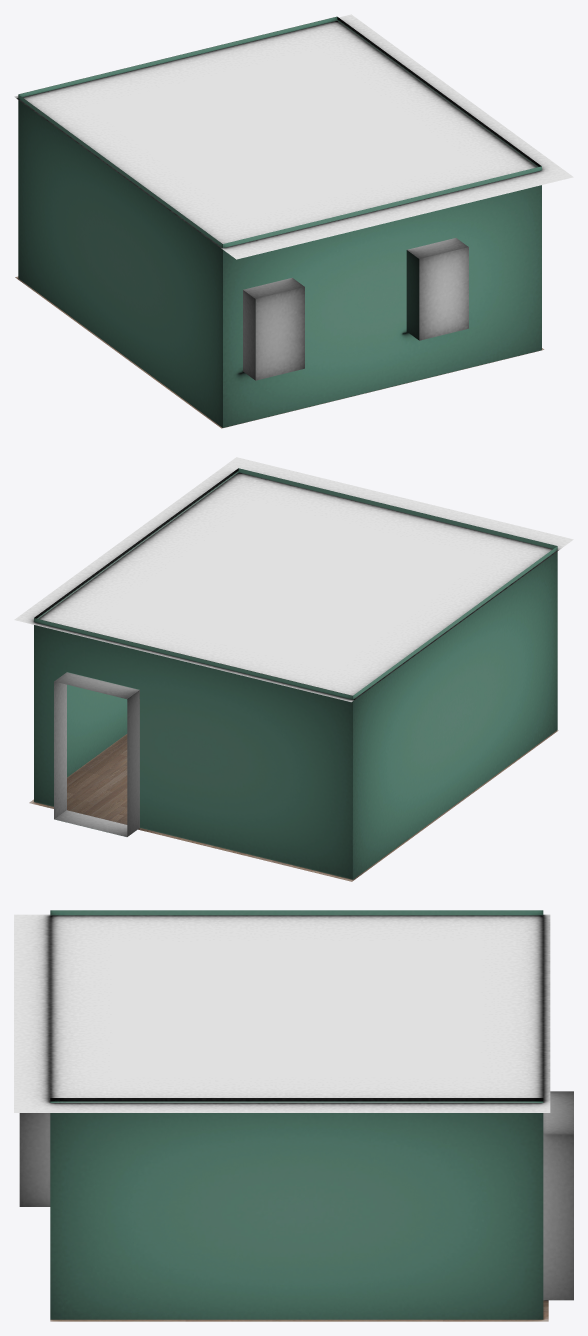
Rendered from rele_walls.fbx.
3 renders of one model, top to bottom at view 1: azimuth 30°, elevation 25°; view 2: azimuth 150°, elevation 25°; view 3: azimuth 270°, elevation 25°, orthographic. The views are drawn at different scales.
Visible parts, largest first — view 1: walls; view 2: walls; view 3: walls.
Boxes of the visible parts, bbox=[...] form: walls: bbox=[14, 14, 573, 428]; walls: bbox=[14, 457, 573, 881]; walls: bbox=[14, 910, 573, 1321].
Bounding box in the file's own units: 5.33 × 2.78 × 6.35.
